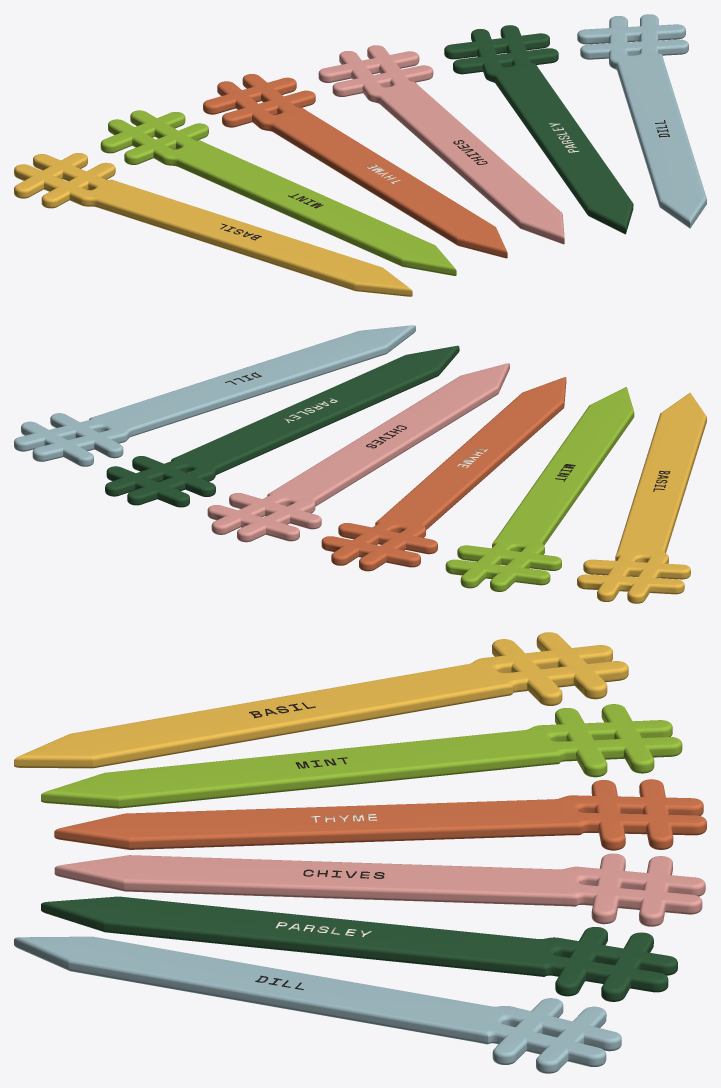
Rendered from hashtags.glb.
3 renders of one model, top to bottom at view 1: azimuth 30°, elevation 25°; view 2: azimuth 150°, elevation 25°; view 3: azimuth 270°, elevation 25°, orthographic. The views are drawn at different scales.
Visible parts, largest first — view 1: tag-BASIL; view 2: tag-BASIL; view 3: tag-BASIL.
Part boxes in pixels (x1,y1,x2,y2): tag-BASIL: [14, 14, 706, 296]; tag-BASIL: [14, 325, 706, 603]; tag-BASIL: [14, 632, 706, 1073].
Size of the model in its own units: 0.2251 by 0.00315 by 0.1527.
Materials: 1 (1 with a texture image).
